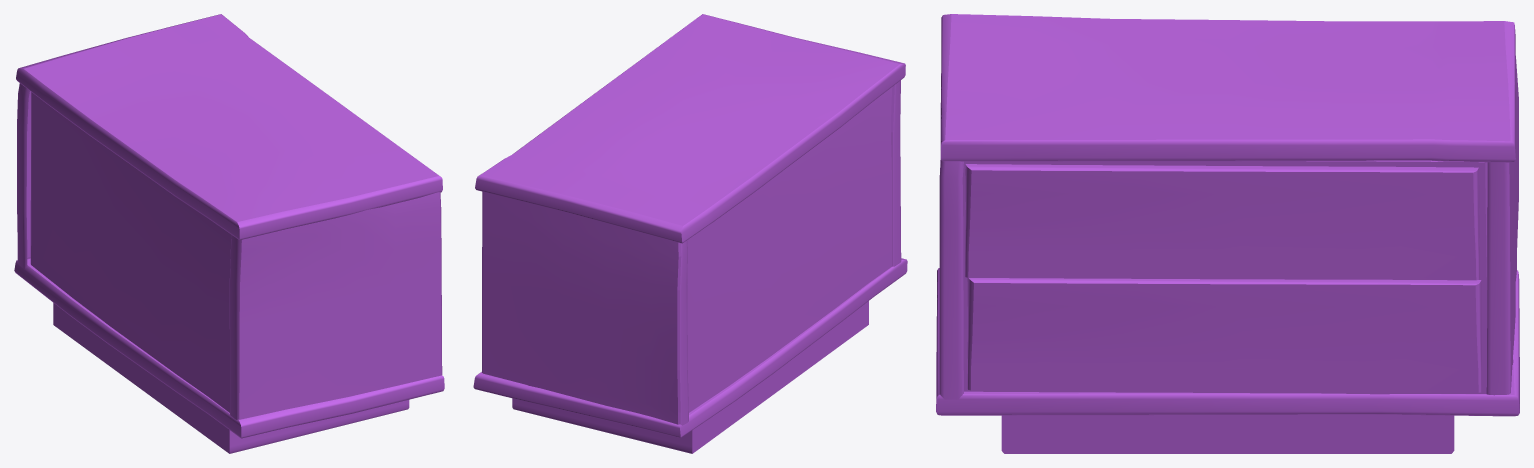
The model's file is Friday_AbbyDresser.fbx.
3 renders of one model, left to right at view 1: azimuth 30°, elevation 25°; view 2: azimuth 150°, elevation 25°; view 3: azimuth 270°, elevation 25°, orthographic. The views are drawn at different scales.
Parts seen in each view (by area): view 1: Dresser; view 2: Dresser; view 3: Dresser.
Part boxes in pixels (x1=…): Dresser: x1=14, y1=14, x2=444, y2=453; Dresser: x1=473, y1=14, x2=907, y2=453; Dresser: x1=936, y1=14, x2=1519, y2=453.
Bounding box in the file's own units: 44.1 × 50.36 × 83.23.
